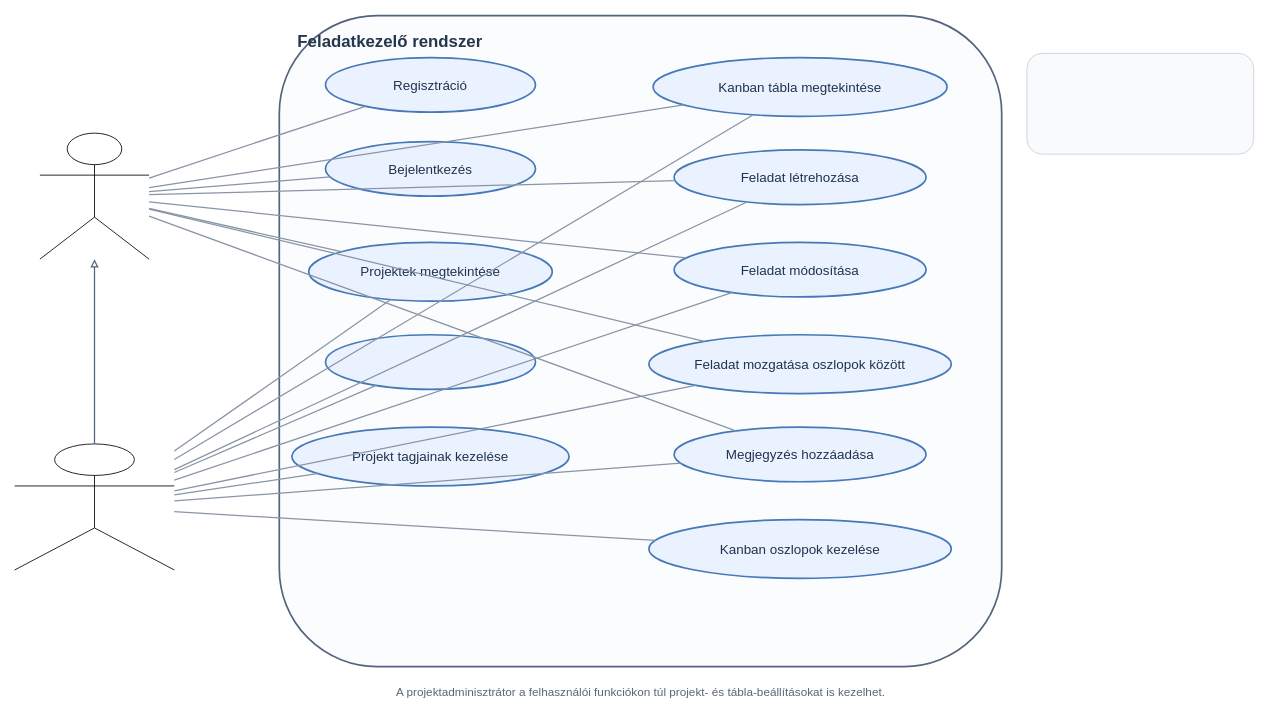
The diagram is 1268 pixels wide and 727 high, and some of its shapes have lost their labels. The centre of each missing label's shape, as x and y in pixels:
"Felhasználó" belongs at point (94, 195).
"Jelmagyarázat Ovális: rendszerfunkció Vonal: szereplő és funkció kapcsolata" belongs at point (1140, 103).
"Projekt létrehozása" belongs at point (430, 361).
"Projektadminisztrátor" belongs at point (94, 506).
